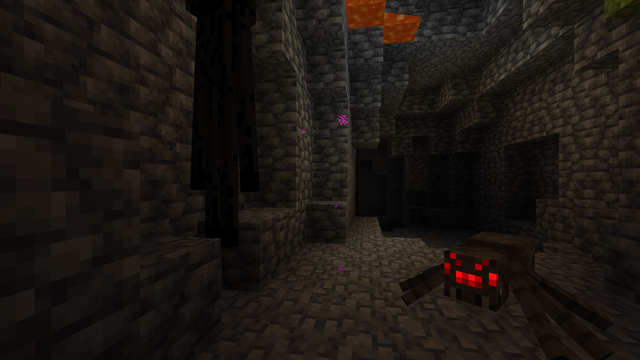araignees: (417, 226, 606, 355)
endermens: (175, 11, 258, 246)
